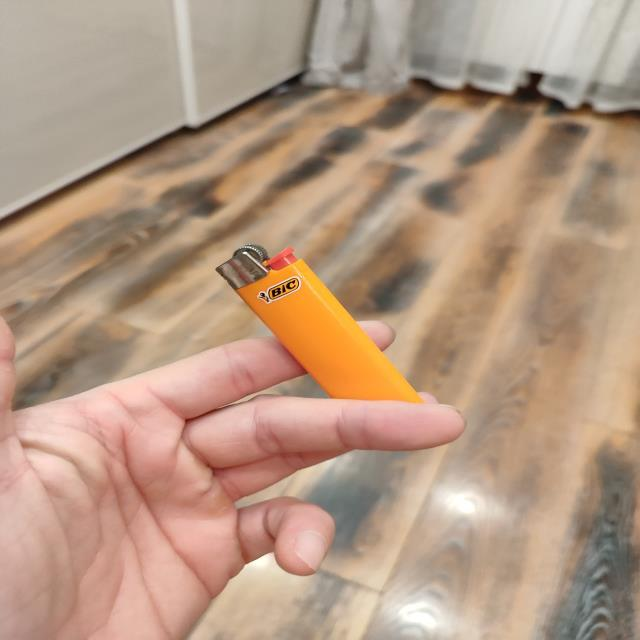lighter: (217, 244, 425, 401)
